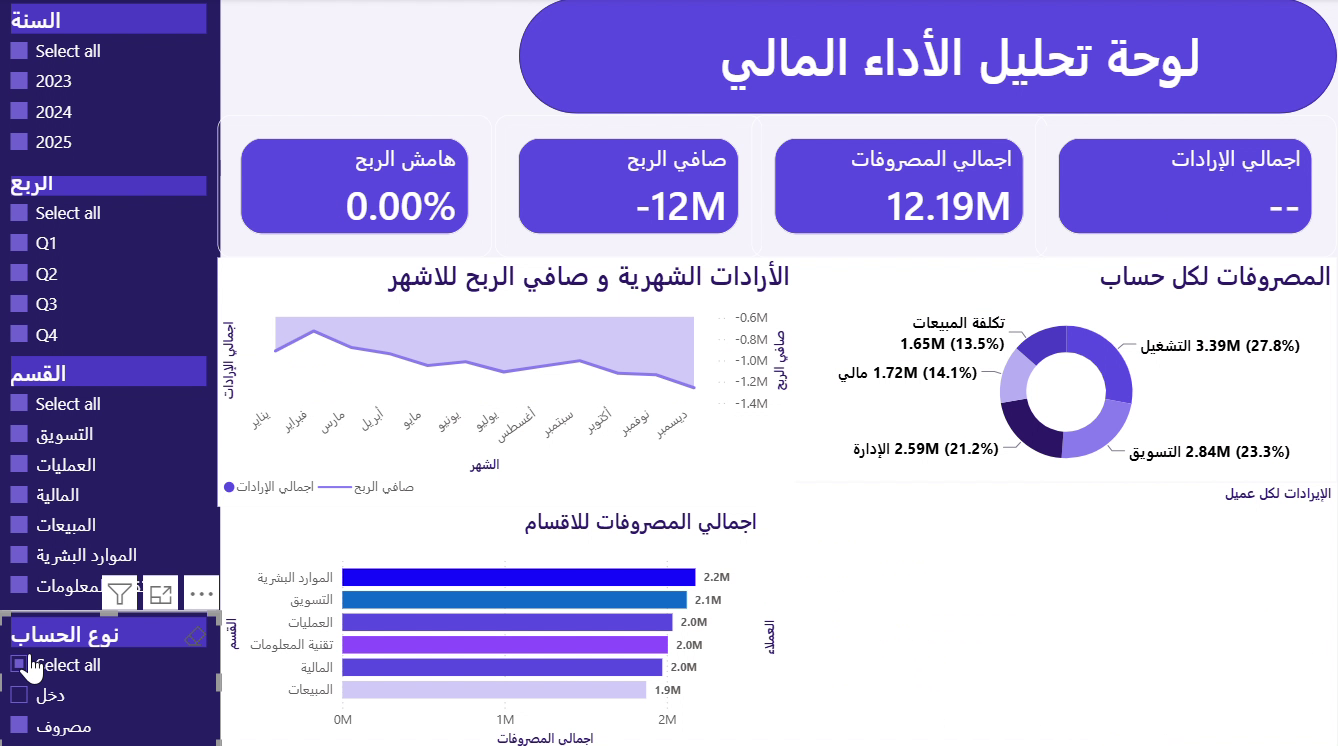

What the dashboard file says about the page in this screenshot:
{"tool":"powerbi","page":{"name":"Page 2","canvas":[1280,720],"ordinal":0},"visuals":[{"type":"slicer","fields":{"Values":["Dim_Account.AccountType"]},"box":[0,585.3,213.1,135.2],"z":0},{"type":"slicer","fields":{"Values":["Dim_Date.Quarter"]},"box":[0,154.3,213.1,189.3],"z":250},{"type":"slicer","fields":{"Values":["Dim_Date.Year"]},"box":[0,0,213.1,170.2],"z":500},{"type":"slicer","fields":{"Values":["Dim_Department.DepartmentName"]},"box":[0,337.2,213.1,248.1],"z":1000},{"type":"clusteredBarChart","title":"اجمالي المصروفات للاقسام","fields":{"Category":["Dim_Department.DepartmentName"],"Y":["Measures_.اجمالي المصروفات"]},"box":[213.8,486.2,517.2,234.5],"z":3000},{"type":"lineStackedColumnComboChart","title":"الأرادات الشهرية و صافي الربح للاشهر","fields":{"Category":["Dim_Date.MonthName"],"Y":["Measures_.اجمالي الإرادات"],"Y2":["Measures_.صافي الربح"]},"box":[210.3,248.3,551.7,237.9],"z":4000},{"type":"barChart","title":"الإيرادات لكل عميل","fields":{"Category":["Dim_Vendor.VendorName"],"Y":["Measures_.اجمالي الإرادات"]},"box":[727.6,462.1,551.7,258.6],"z":6000},{"type":"donutChart","title":"المصروفات لكل حساب","fields":{"Category":["Dim_Account.AccountCategory"],"Y":["Measures_.اجمالي المصروفات"]},"box":[762.1,248.3,517.2,213.8],"z":7000},{"type":"cardVisual","title":"هامش الربح","fields":{"Data":["Measures_.Profit Margin %"]},"box":[210.3,112.1,262.1,136.2],"z":8000},{"type":"cardVisual","fields":{"Data":["Measures_.Net Profit"]},"box":[475.9,112.1,255.2,136.2],"z":9000},{"type":"cardVisual","fields":{"Data":["Measures_.Total Expenses"]},"box":[720.7,112.1,282.8,136.2],"z":10000},{"type":"cardVisual","fields":{"Data":["Measures_.Total Revenue"]},"box":[991.4,112.1,287.9,136.2],"z":11000},{"type":"shape","box":[498.3,0,781,110.3],"z":12000},{"type":"textbox","box":[620.7,15.5,600,77.6],"z":13000}]}

Visuals, with their boxes on the page's 1280x720 design canvas (x1, y1, x2, y2). These are canvas units, not pixel positions in the 1338x746 screenshot, which may show the page scaled, cropped or inside an application window:
slicer - Dim_Account.AccountType: BBox(0, 585, 213, 720)
slicer - Dim_Date.Quarter: BBox(0, 154, 213, 344)
slicer - Dim_Date.Year: BBox(0, 0, 213, 170)
slicer - Dim_Department.DepartmentName: BBox(0, 337, 213, 585)
"اجمالي المصروفات للاقسام" clusteredBarChart: BBox(214, 486, 731, 721)
"الأرادات الشهرية و صافي الربح للاشهر" lineStackedColumnComboChart: BBox(210, 248, 762, 486)
"الإيرادات لكل عميل" barChart: BBox(728, 462, 1279, 721)
"المصروفات لكل حساب" donutChart: BBox(762, 248, 1279, 462)
"هامش الربح" cardVisual: BBox(210, 112, 472, 248)
cardVisual - Measures_.Net Profit: BBox(476, 112, 731, 248)
cardVisual - Measures_.Total Expenses: BBox(721, 112, 1004, 248)
cardVisual - Measures_.Total Revenue: BBox(991, 112, 1279, 248)
shape: BBox(498, 0, 1279, 110)
textbox: BBox(621, 16, 1221, 93)
